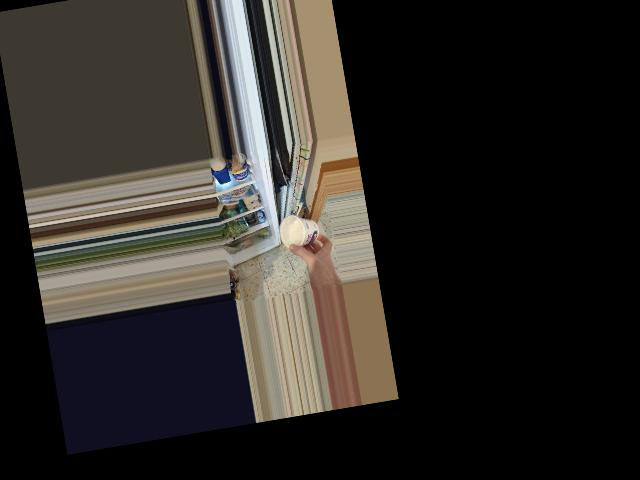cotage: (278, 214, 320, 250)
